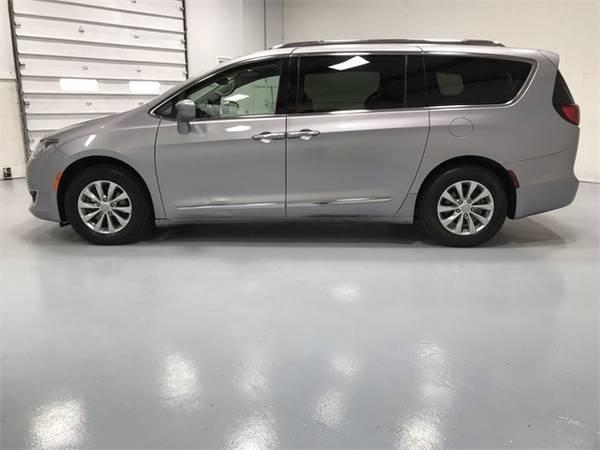Front_Bumper: (26, 147, 72, 224)
Front_Fender: (56, 109, 165, 224)
Front_Left_Door: (153, 119, 288, 226)
Front_Left_Window: (153, 55, 292, 120)
Hood: (44, 103, 154, 137)
Left_Headlight: (33, 138, 57, 158)
Left_Taillight: (561, 105, 582, 125)
Rear_Bumper: (502, 121, 581, 216)
Rear_Fender: (394, 53, 571, 221)
Rear_Left_Door: (286, 107, 430, 220)
Rear_Left_Window: (288, 52, 430, 115)
Roof: (149, 40, 561, 111)
Wheel: (423, 164, 511, 244), (64, 165, 148, 243)
